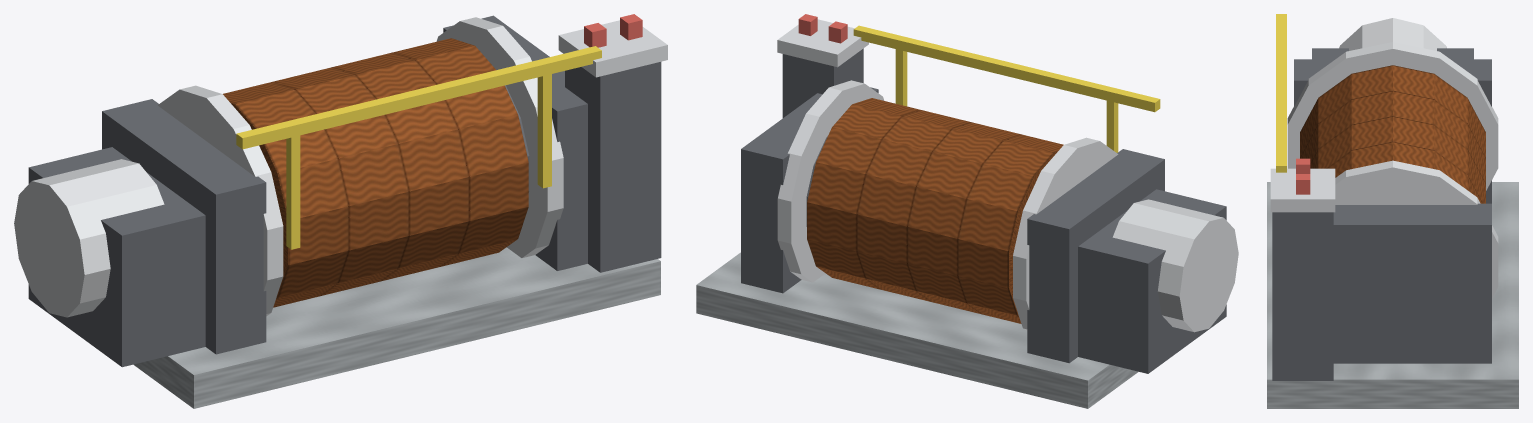
The model's file is cruise-ship-deck-and-lounge-cruise-ship-deck-and-loung-0094e794__38423.glb.
3 renders of one model, left to right at view 1: azimuth 30°, elevation 25°; view 2: azimuth 150°, elevation 25°; view 3: azimuth 270°, elevation 25°, orthographic. The views are drawn at different scales.
Parts seen in each view (by area): view 1: cruise-ship-deck-and-lounge-mooring-winch, winch-drum/teak, winch-drum/steel (×2); view 2: cruise-ship-deck-and-lounge-mooring-winch, winch-drum/teak, winch-drum/steel (×2); view 3: cruise-ship-deck-and-lounge-mooring-winch, winch-drum/teak, winch-drum/steel (×2).
Part boxes in pixels (x1,y1,x2,y2): cruise-ship-deck-and-lounge-mooring-winch: [14, 14, 667, 408]; winch-drum/teak: [223, 38, 528, 307]; winch-drum/steel (×2): [158, 17, 563, 316]; cruise-ship-deck-and-lounge-mooring-winch: [696, 14, 1238, 408]; winch-drum/teak: [807, 98, 1063, 323]; winch-drum/steel (×2): [777, 80, 1118, 330]; cruise-ship-deck-and-lounge-mooring-winch: [1267, 14, 1518, 408]; winch-drum/teak: [1300, 65, 1485, 203]; winch-drum/steel (×2): [1287, 42, 1498, 297].
Size of the model in its own units: 3.05 by 1.4 by 1.4.
Materials: 6 (2 with a texture image).
